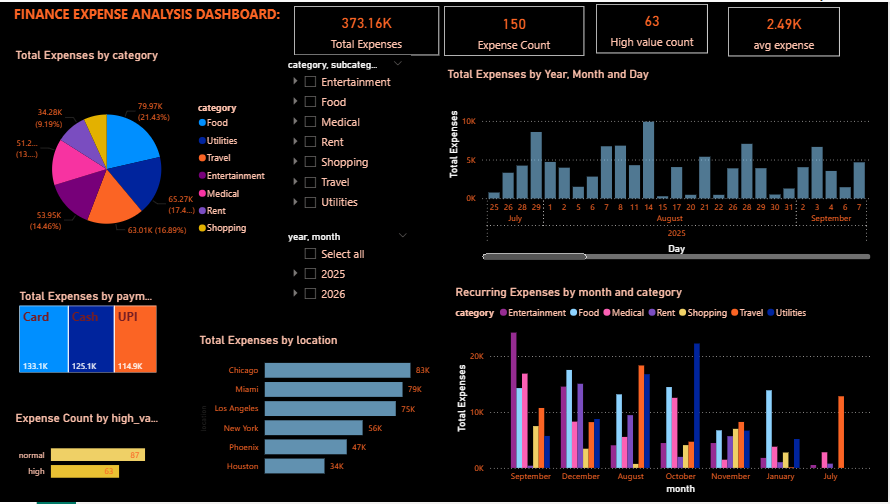

The page's visual inventory and layout, read from the dashboard file:
{"tool":"powerbi","page":{"name":"Page 1","canvas":[1280,720],"ordinal":0},"visuals":[{"type":"card","fields":{"Values":["finance_expense.Total Expenses"]},"box":[423.4,5.8,208.8,70.6],"z":0},{"type":"card","fields":{"Values":["finance_expense.High value count"]},"box":[858.2,2.9,161.3,70.6],"z":1000},{"type":"card","fields":{"Values":["finance_expense.Expense Count"]},"box":[639.4,5.8,201.6,72],"z":2000},{"type":"pieChart","fields":{"Category":["finance_expense.category"],"Y":["finance_expense.Total Expenses"]},"box":[17.3,66.2,378.7,329.8],"z":3000},{"type":"treemap","fields":{"Group":["finance_expense.payment_mode"],"Values":["finance_expense.Total Expenses"]},"box":[23,413.3,207.4,125.3],"z":4000},{"type":"slicer","fields":{"Values":["finance_expense.year","finance_expense.month"]},"box":[401.8,324,197.3,152.6],"z":5000},{"type":"slicer","fields":{"Values":["finance_expense.category Hierarchy.category","finance_expense.subcategory"]},"box":[401.8,76.3,190.1,231.8],"z":6000},{"type":"columnChart","fields":{"Category":["finance_expense.expense_date.Variation.Date Hierarchy.Year","finance_expense.expense_date.Variation.Date Hierarchy.Month","finance_expense.expense_date.Variation.Date Hierarchy.Day"],"Y":["finance_expense.Total Expenses"]},"box":[639.4,93.6,619.2,282.2],"z":7000},{"type":"barChart","fields":{"Y":["finance_expense.Expense Count"],"Category":["finance_expense.high_value_flag"]},"box":[17.3,589,217.4,123.8],"z":8000},{"type":"textbox","box":[0,0,423.4,38.9],"z":9000},{"type":"clusteredBarChart","fields":{"Category":["finance_expense.location"],"Y":["finance_expense.Total Expenses"]},"box":[282.2,476.6,357.1,218.9],"z":10000},{"type":"clusteredColumnChart","title":"Recurring Expenses by month and category","fields":{"Category":["finance_expense.month"],"Y":["finance_expense.Total Expenses"],"Series":["finance_expense.category"]},"box":[650.9,407.5,607.7,306.7],"z":11000},{"type":"card","fields":{"Values":["finance_expense.avg expense"]},"box":[1048.3,7.2,161.3,70.6],"z":12000}]}

Visuals, with their boxes in screenshot pixels (x1, y1, x2, y2), scaled from the page's 1280x720 canvas onto the 890x504 screenshot:
card - finance_expense.Total Expenses: Rect(294, 4, 440, 53)
card - finance_expense.High value count: Rect(597, 2, 709, 51)
card - finance_expense.Expense Count: Rect(445, 4, 585, 54)
pieChart - finance_expense.category x finance_expense.Total Expenses: Rect(12, 46, 275, 277)
treemap - finance_expense.payment_mode x finance_expense.Total Expenses: Rect(16, 289, 160, 377)
slicer - finance_expense.year x finance_expense.month: Rect(279, 227, 417, 334)
slicer - finance_expense.category Hierarchy.category x finance_expense.subcategory: Rect(279, 53, 412, 216)
columnChart - finance_expense.expense_date.Variation.Date Hierarchy.Year x finance_expense.expense_date.Variation.Date Hierarchy.Month: Rect(445, 66, 875, 263)
barChart - finance_expense.Expense Count x finance_expense.high_value_flag: Rect(12, 412, 163, 499)
textbox: Rect(0, 0, 294, 27)
clusteredBarChart - finance_expense.location x finance_expense.Total Expenses: Rect(196, 334, 445, 487)
"Recurring Expenses by month and category" clusteredColumnChart: Rect(453, 285, 875, 500)
card - finance_expense.avg expense: Rect(729, 5, 841, 54)
